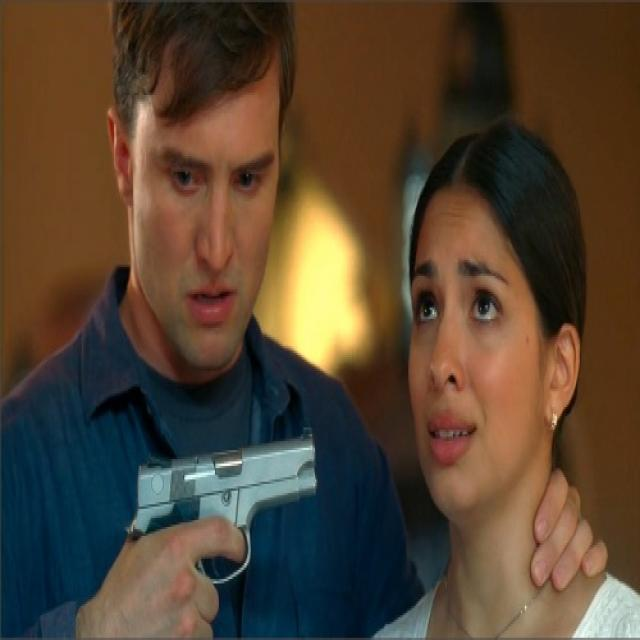weapons: (113, 421, 330, 628)
